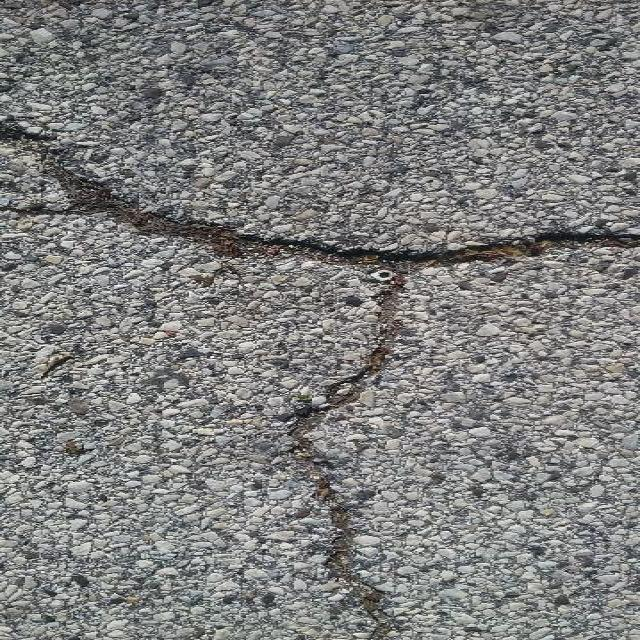Longitudinal: (224, 224, 416, 416)
Transverse: (224, 224, 416, 416)
